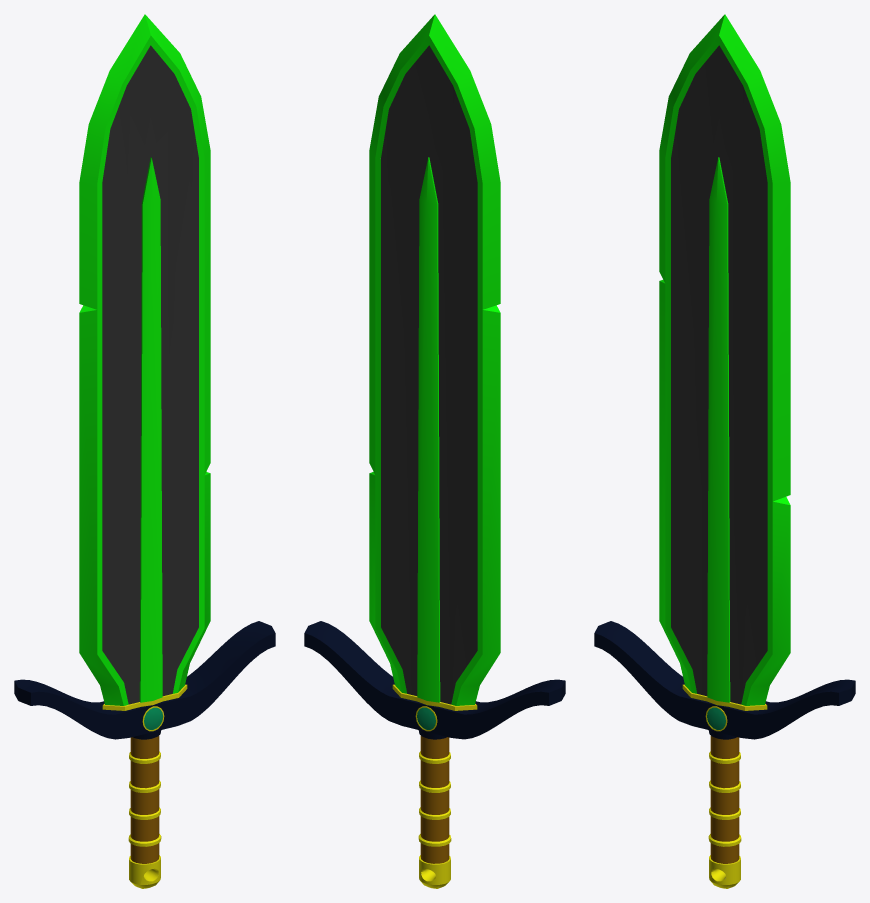
File: esmerald_essence_sword.glb
The picture shows the model from 3 angles, left to right: view 1: azimuth 30°, elevation 25°; view 2: azimuth 150°, elevation 25°; view 3: azimuth 330°, elevation 25°; orthographic projection.
Visible parts, largest first — view 1: Esmerald Essence; view 2: Esmerald Essence; view 3: Esmerald Essence.
Boxes of the visible parts, <box> form: Esmerald Essence: <box>14,14,275,888</box>; Esmerald Essence: <box>304,14,565,888</box>; Esmerald Essence: <box>594,14,855,888</box>.
Bounding box in the file's own units: 1.54 × 5.08 × 0.1902.
1 material, 1 textured.
